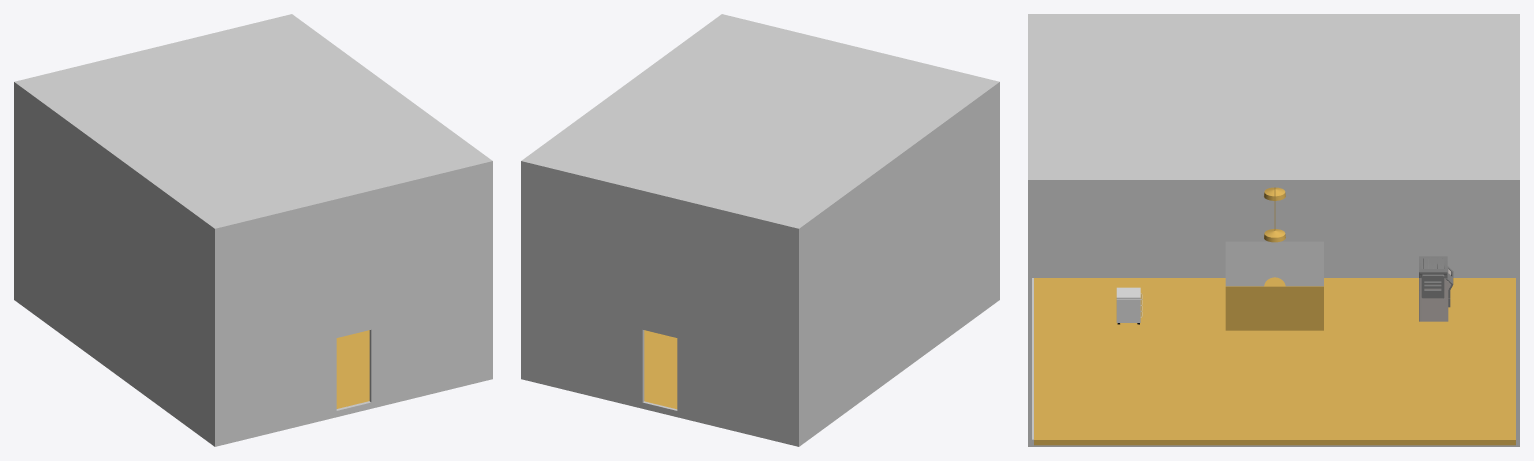
Rendered from asset_office_eq.fbx.
3 views of the same model, side by side, from view 1: azimuth 30°, elevation 25°; view 2: azimuth 150°, elevation 25°; view 3: azimuth 270°, elevation 25° (orthographic). The views are drawn at different scales.
Parts seen in each view (by area): view 1: walls, Cube; view 2: walls, Cube; view 3: walls, Cube, table1, glass, Printer Body, Office drawers darl wood.
Part boxes in pixels (x1=…): walls: x1=14, y1=14, x2=492, y2=446; Cube: x1=336, y1=330, x2=369, y2=408; walls: x1=521, y1=14, x2=999, y2=446; Cube: x1=644, y1=330, x2=677, y2=409; walls: x1=1028, y1=14, x2=1519, y2=446; Cube: x1=1034, y1=278, x2=1515, y2=445; table1: x1=1225, y1=277, x2=1323, y2=330; glass: x1=1225, y1=241, x2=1323, y2=286; Printer Body: x1=1419, y1=256, x2=1453, y2=321; Office drawers darl wood: x1=1116, y1=287, x2=1142, y2=324.
Bounding box in the file's own units: 801 × 600 × 1001.
